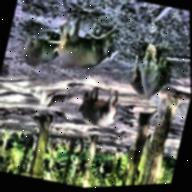boar: (63, 68, 126, 132)
